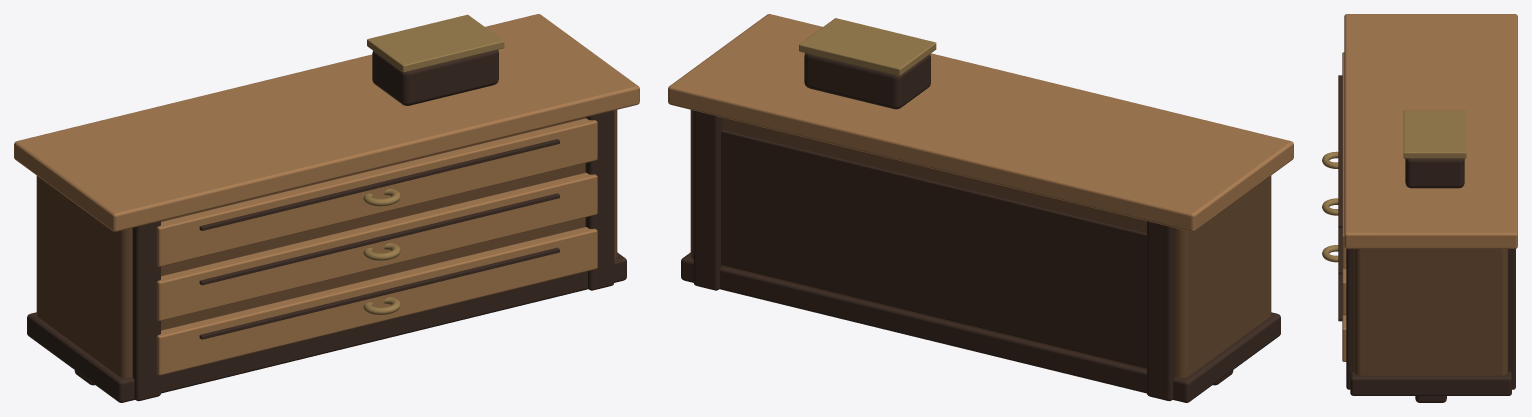
File: detail_dresser.glb
3 renders of one model, left to right at view 1: azimuth 30°, elevation 25°; view 2: azimuth 150°, elevation 25°; view 3: azimuth 270°, elevation 25°, orthographic. The views are drawn at different scales.
Parts seen in each view (by area): view 1: wood; view 2: wood; view 3: wood.
Part boxes in pixels (x1,y1,x2,y2): wood: [14, 14, 639, 402]; wood: [668, 14, 1293, 402]; wood: [1322, 14, 1517, 402].
Size of the model in its own units: 2.4 by 1.1 by 0.9.
